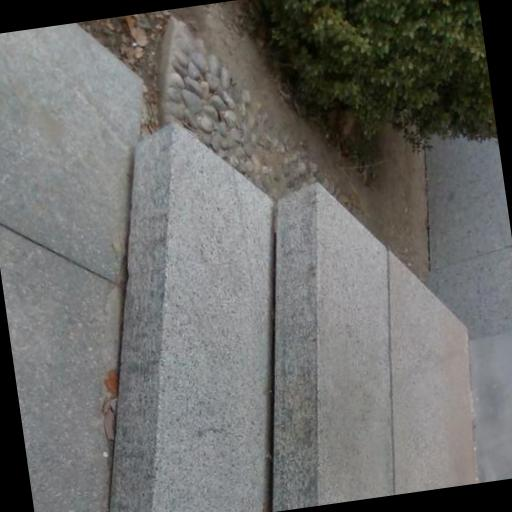stairs: (109, 125, 475, 511)
